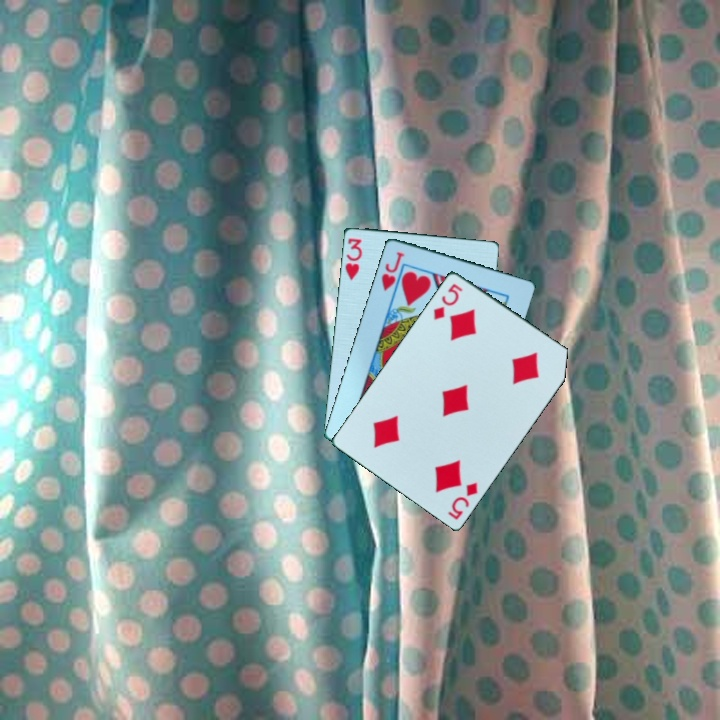3h: (341, 234, 365, 283)
5d: (444, 478, 481, 522), (429, 279, 465, 323)
Jh: (378, 248, 407, 293)
